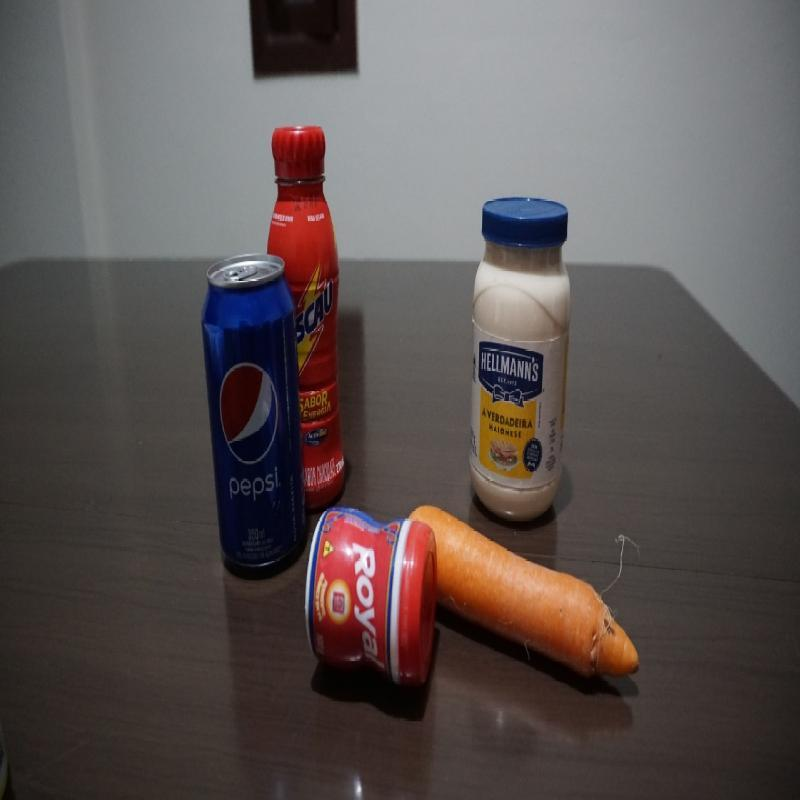Carrot: (405, 487, 641, 692)
Chocolate Milk: (267, 118, 349, 504)
Mayonnaise: (473, 198, 570, 520)
Soda can: (204, 252, 307, 576)
Yeast: (304, 505, 439, 688)
